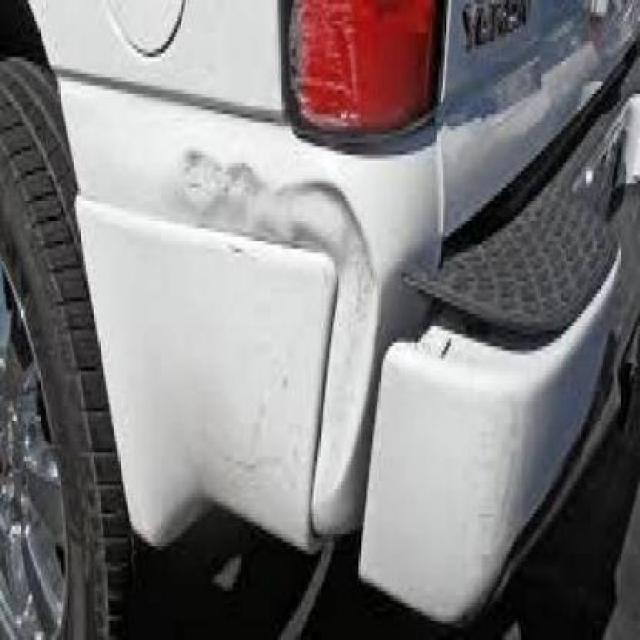damage: (174, 136, 379, 517)
